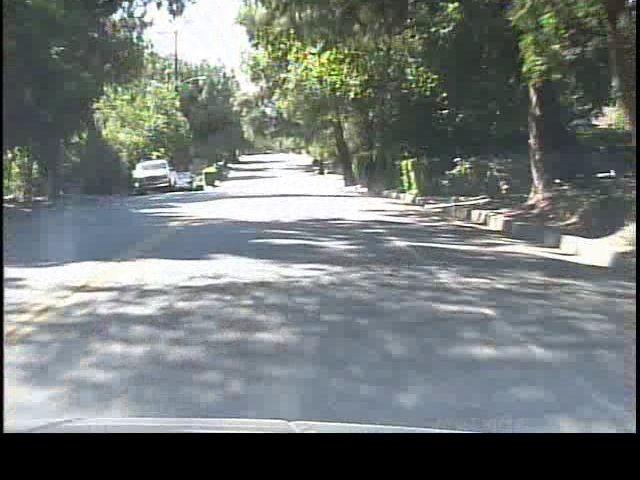person: (362, 154, 381, 200)
